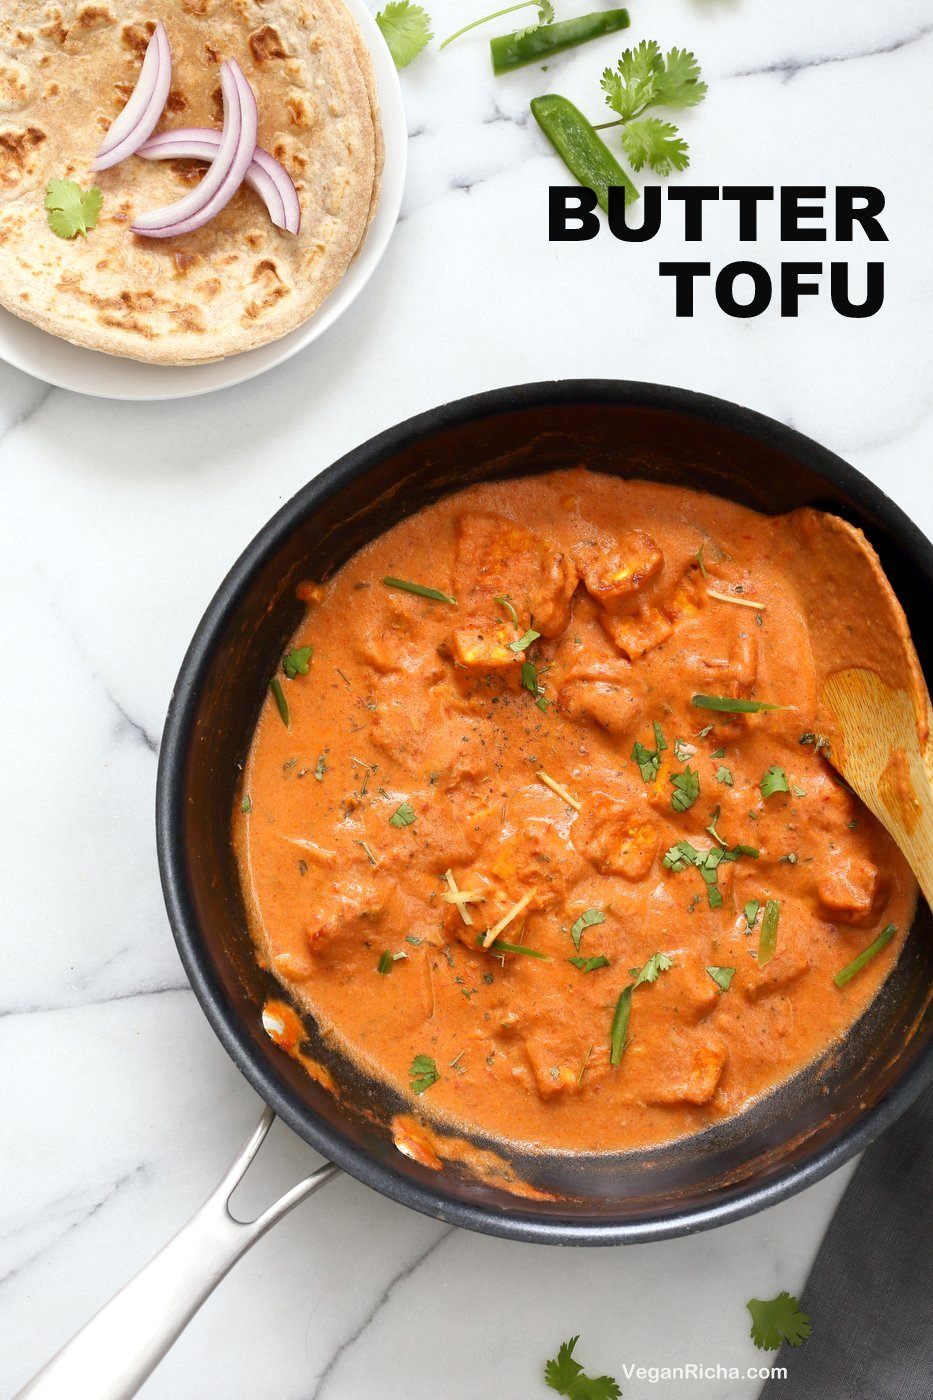chicken_curry: (318, 477, 912, 1126)
